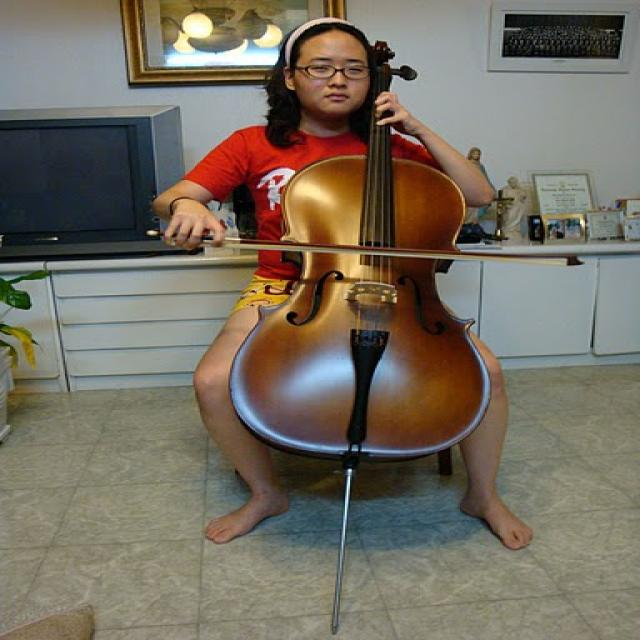cello: (228, 43, 494, 466)
